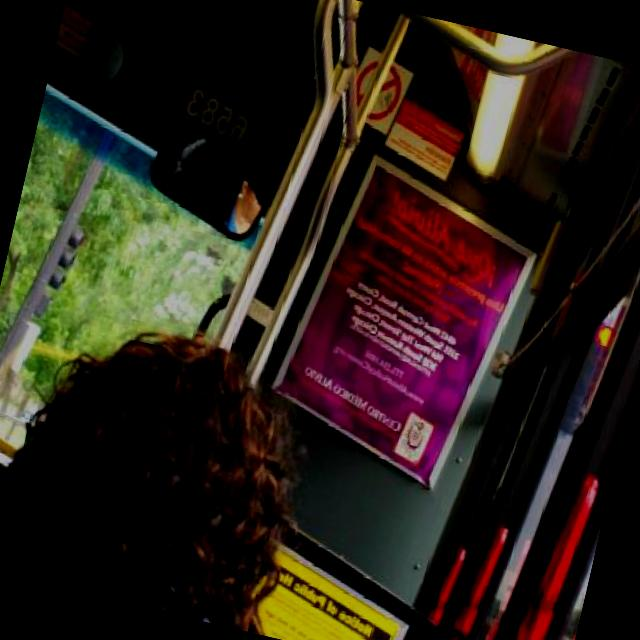Person: (0, 289, 343, 637)
